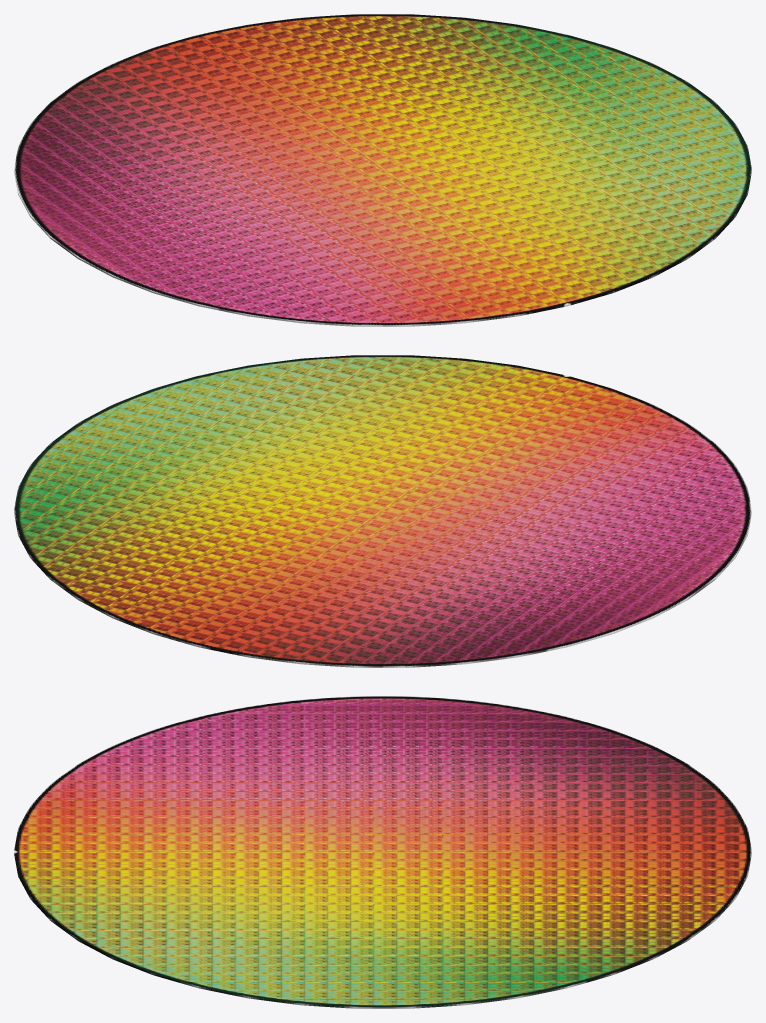
The model's file is yuanpian1.gltf.
3 renders of one model, top to bottom at view 1: azimuth 30°, elevation 25°; view 2: azimuth 150°, elevation 25°; view 3: azimuth 270°, elevation 25°, orthographic.
Visible parts, largest first — view 1: ICP992; view 2: ICP992; view 3: ICP992.
Part boxes in pixels (x1=…): ICP992: x1=14, y1=14, x2=751, y2=326; ICP992: x1=14, y1=355, x2=751, y2=667; ICP992: x1=14, y1=696, x2=751, y2=1008.
Bounding box in the file's own units: 29.92 × 0.07 × 30.
1 material, 1 textured.
